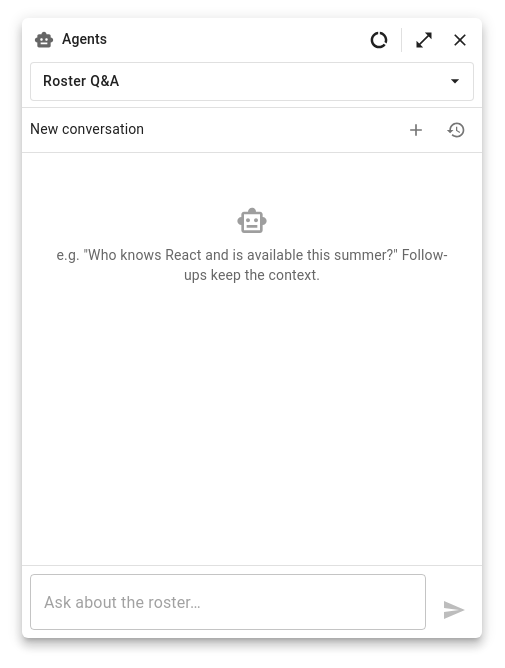
Test: the history drawer › closes without choosing anything
What coordinates should you click on to do the following:
click the button named "Conversation history"
I would click on:
 (456, 130)
Its box is [438,112,474,148].
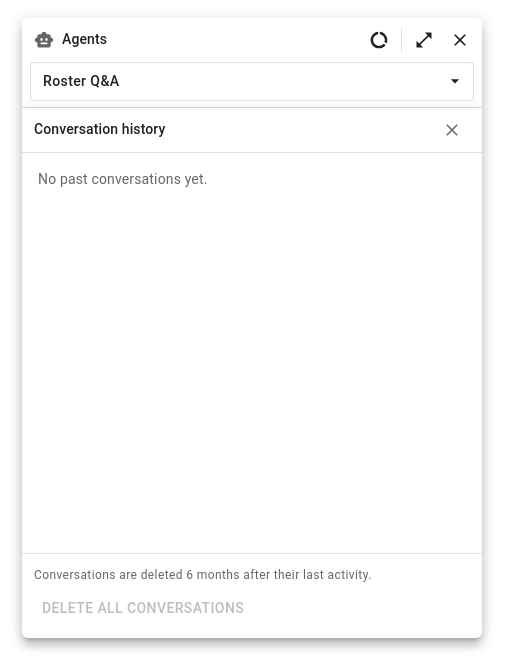
What coordinates should you click on to do the following:
click the button named "Close history"
I would click on:
 (452, 130)
Its box is [434,112,470,148].
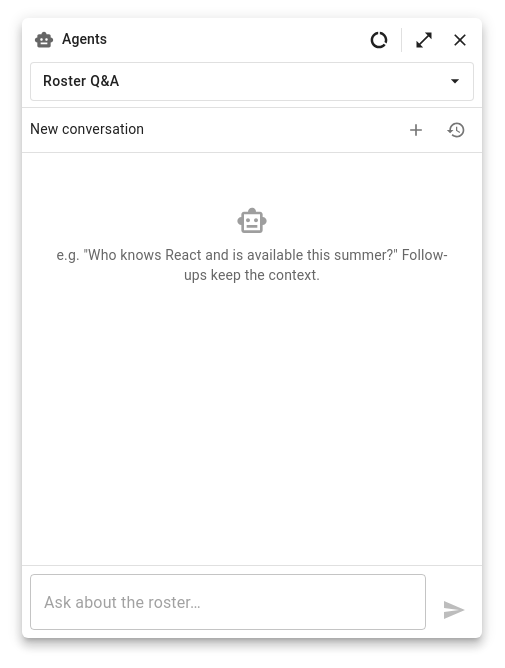
Now the heading "Conversation history" is gone
